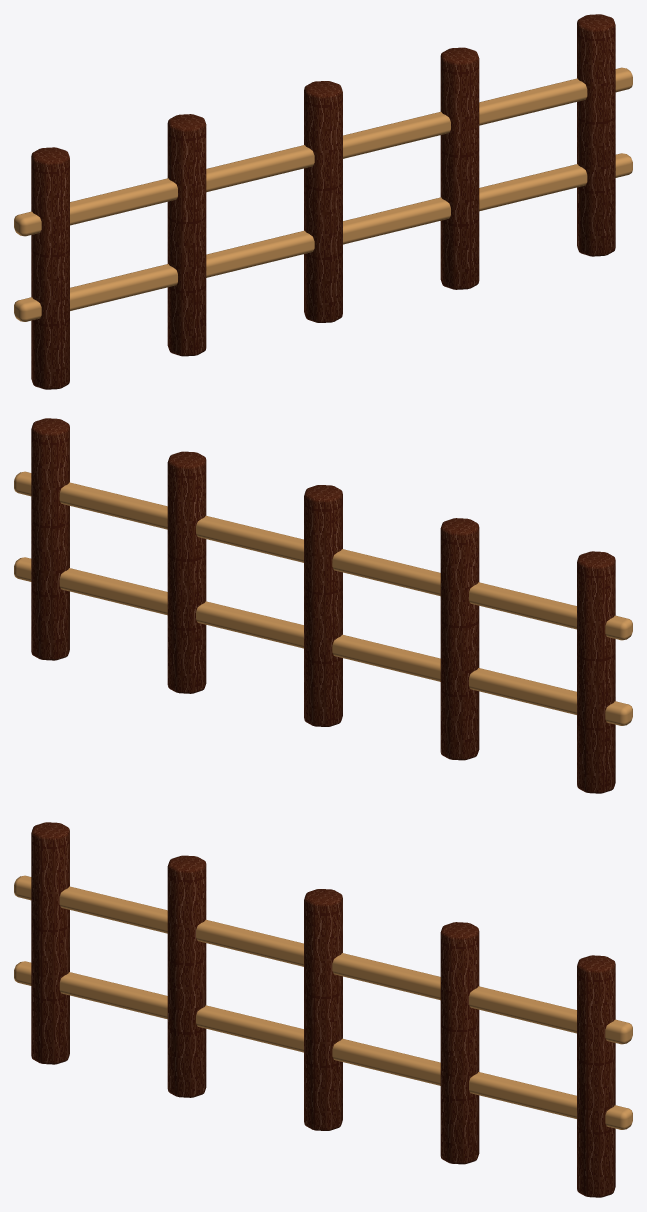
The model's file is fence.glb.
3 renders of one model, top to bottom at view 1: azimuth 30°, elevation 25°; view 2: azimuth 150°, elevation 25°; view 3: azimuth 330°, elevation 25°, orthographic.
Parts seen in each view (by area): view 1: fence_wood, fence_wood_light; view 2: fence_wood, fence_wood_light; view 3: fence_wood, fence_wood_light.
Part boxes in pixels (<box>): fence_wood: <box>31,14,615,389</box>; fence_wood_light: <box>14,67,632,321</box>; fence_wood: <box>31,418,615,793</box>; fence_wood_light: <box>14,471,632,725</box>; fence_wood: <box>31,822,615,1197</box>; fence_wood_light: <box>14,875,632,1129</box>.
Bounding box in the file's own units: 4.5 × 1.6 × 0.2507.
2 materials, 1 textured.
